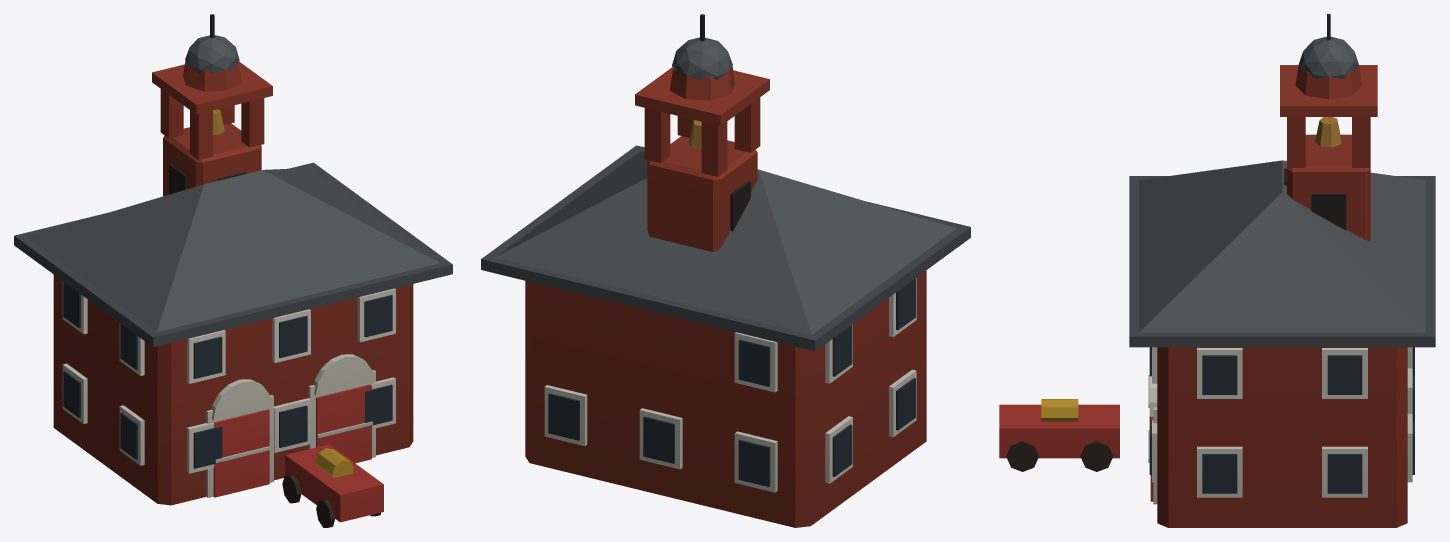
The model's file is firestation.glb.
3 renders of one model, left to right at view 1: azimuth 30°, elevation 25°; view 2: azimuth 150°, elevation 25°; view 3: azimuth 270°, elevation 25°, orthographic. The views are drawn at different scales.
Parts seen in each view (by area): view 1: firestation_model; view 2: firestation_model; view 3: firestation_model.
Part boxes in pixels (x1,y1,x2,y2): firestation_model: (14, 14, 452, 527); firestation_model: (481, 14, 970, 527); firestation_model: (999, 14, 1435, 527).
Bounding box in the file's own units: 0.8033 × 1.04 × 0.9208.
